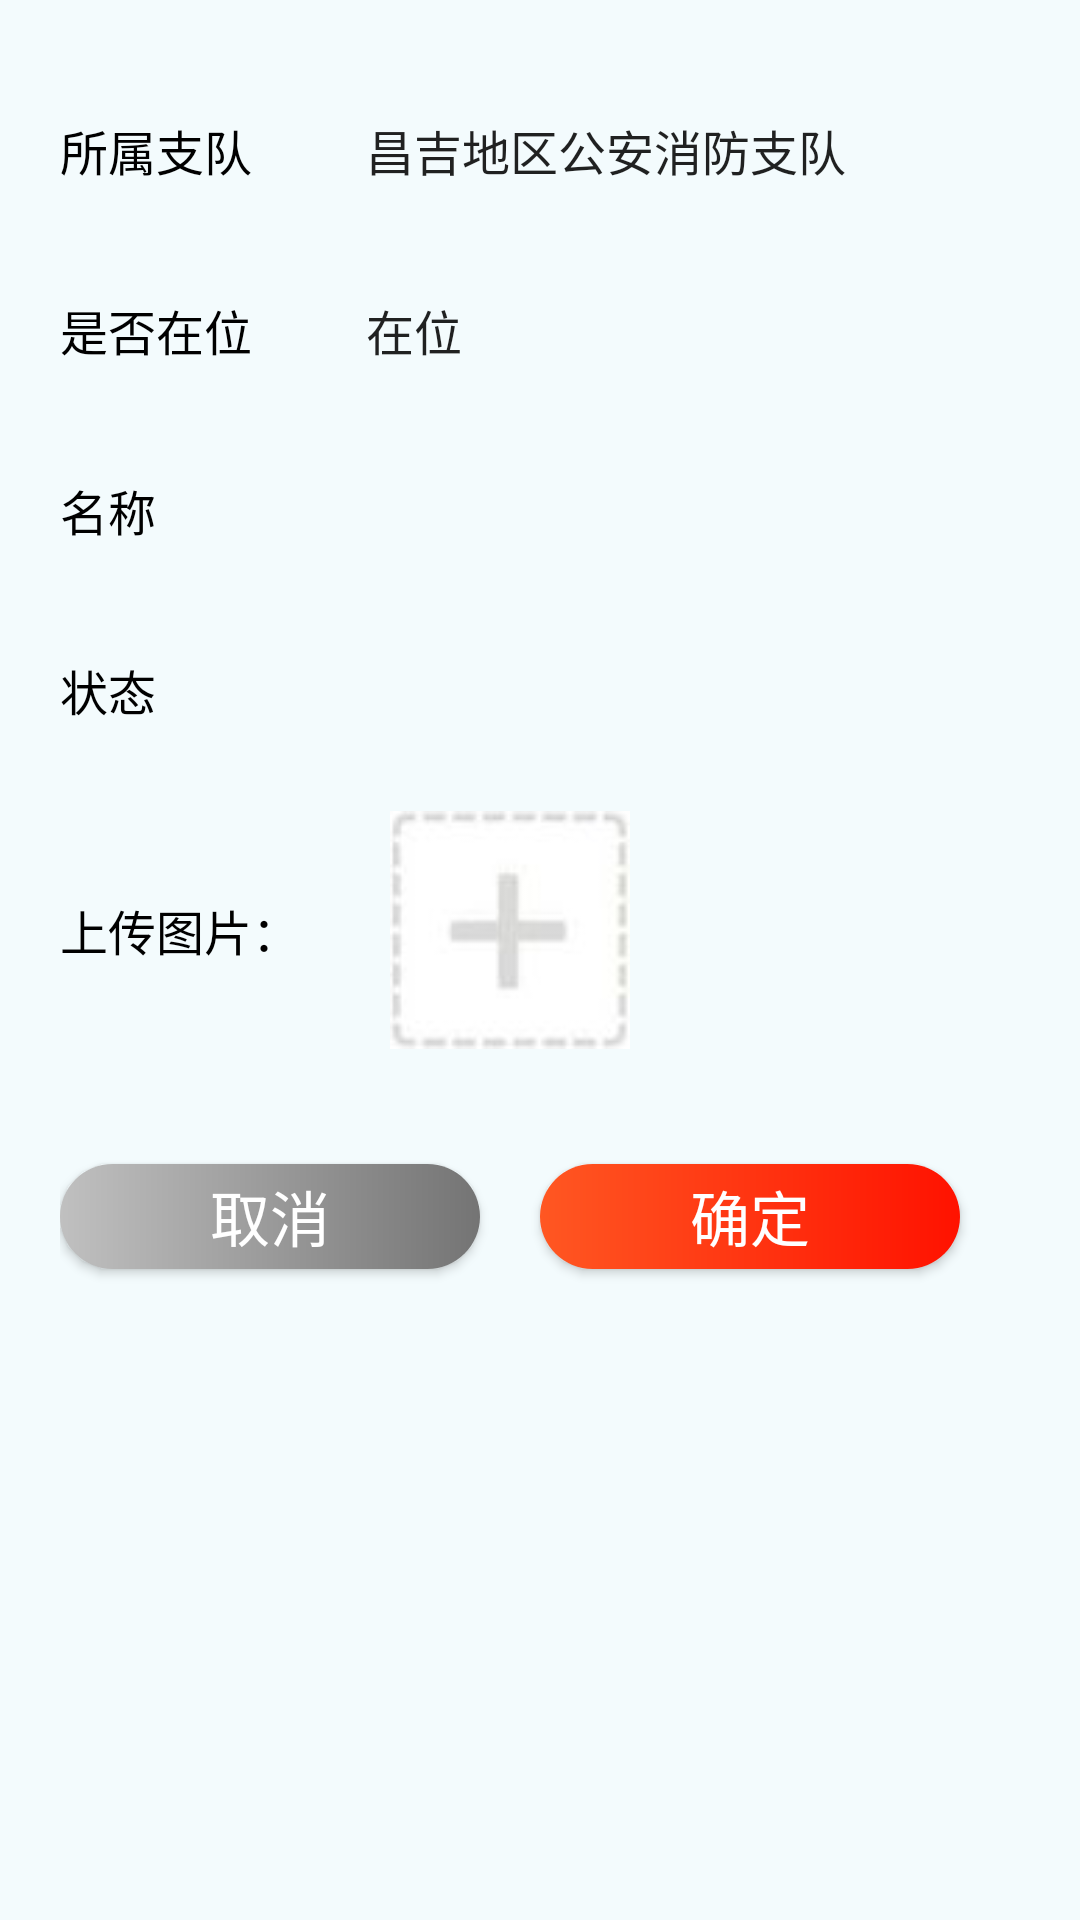

Where icons sit on this 1080w x 1920h app screen, as (x1, y1, x2, y2):
add picture: (390, 811, 630, 1049)
